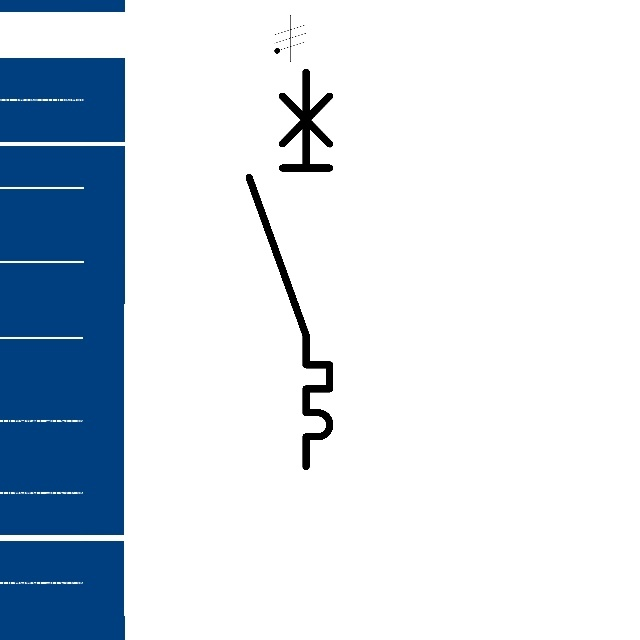interruptor_termomagnetico: (239, 61, 340, 476)
